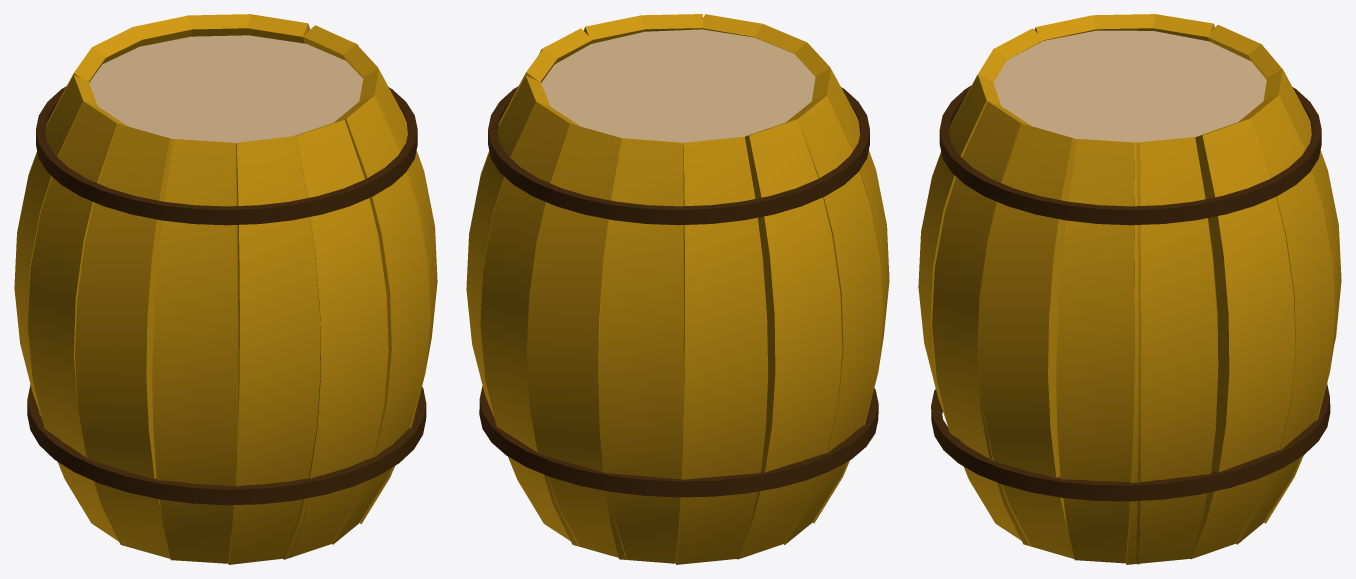
The model's file is barrica.fbx.
3 renders of one model, left to right at view 1: azimuth 30°, elevation 25°; view 2: azimuth 150°, elevation 25°; view 3: azimuth 270°, elevation 25°, orthographic.
Parts seen in each view (by area): view 1: 管道_3; view 2: 管道_3; view 3: 管道_3.
Boxes of the visible parts, <box> form: 管道_3: <box>14,14,437,564</box>; 管道_3: <box>466,14,889,564</box>; 管道_3: <box>918,14,1341,564</box>.
Bounding box in the file's own units: 309 × 344 × 309.
